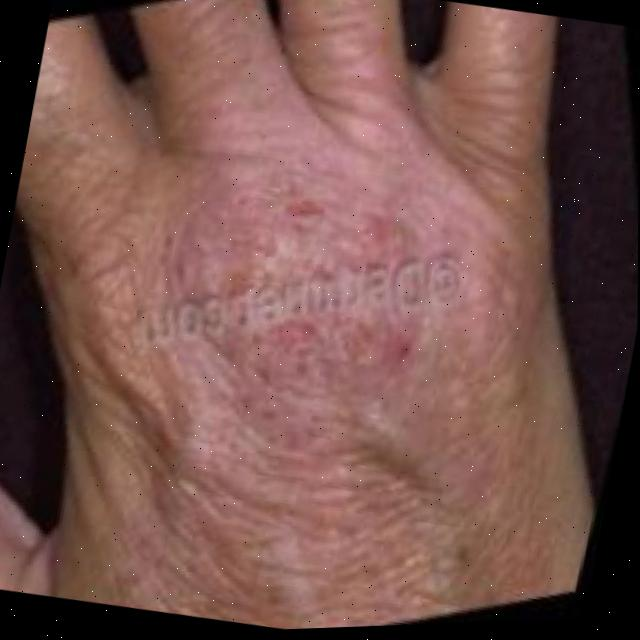Eczema: (216, 134, 537, 419)
